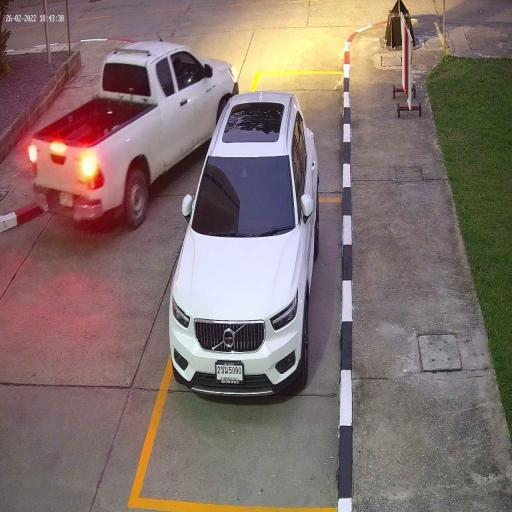car: (168, 88, 321, 403), (28, 38, 241, 230)
